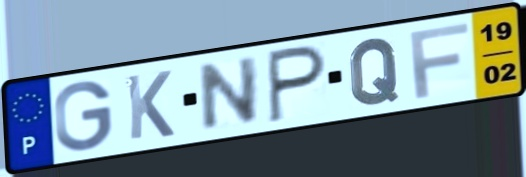F: (406, 20, 472, 101)
G: (52, 78, 115, 154)
K: (123, 68, 177, 143)
N: (199, 53, 262, 134)
P: (266, 42, 330, 127)
Q: (347, 36, 401, 108)
